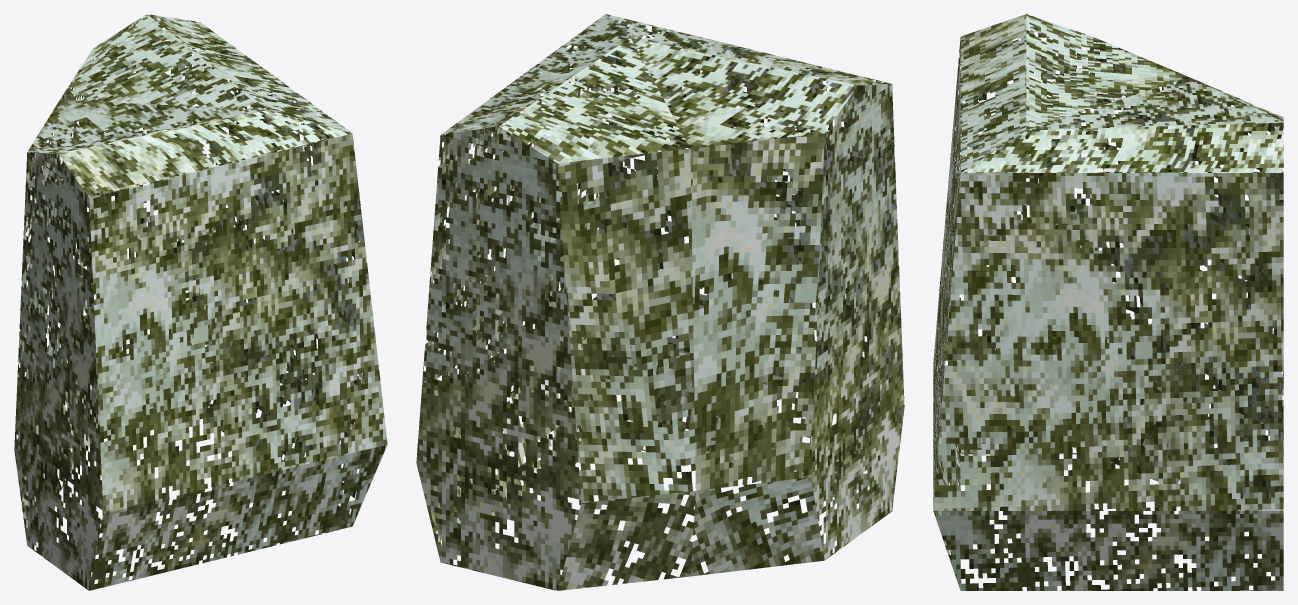
File: bush_long_square_corner_filled_winter.glb
3 renders of one model, left to right at view 1: azimuth 30°, elevation 25°; view 2: azimuth 150°, elevation 25°; view 3: azimuth 270°, elevation 25°, orthographic. The views are drawn at different scales.
Parts seen in each view (by area): view 1: bush_long_square_corner_filled_winter; view 2: bush_long_square_corner_filled_winter; view 3: bush_long_square_corner_filled_winter.
Part boxes in pixels (<box>): bush_long_square_corner_filled_winter: <box>14,14,387,590</box>; bush_long_square_corner_filled_winter: <box>416,14,904,590</box>; bush_long_square_corner_filled_winter: <box>933,14,1283,590</box>.
Size of the model in its own units: 1.35 by 1.88 by 1.35.
1 material, 1 textured.
